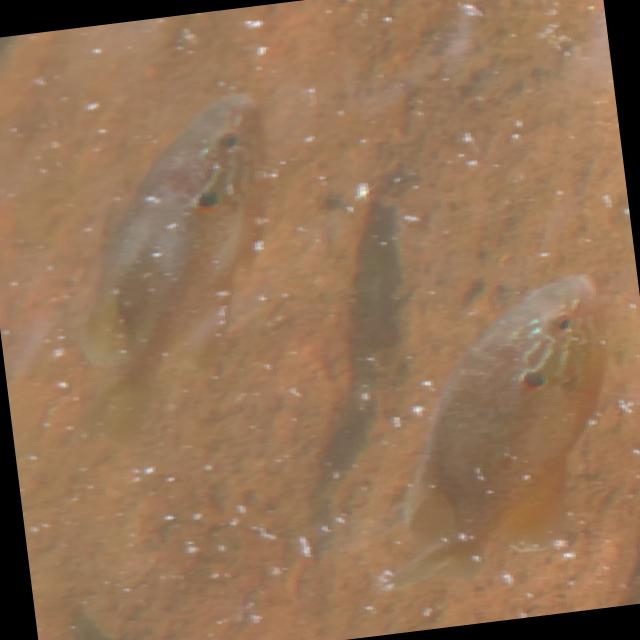Gunes Levregi: (339, 266, 640, 597)
